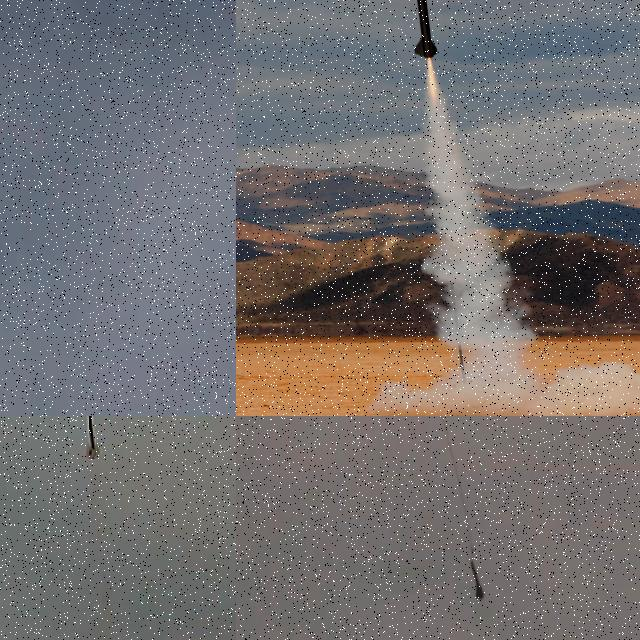Rocket: (412, 0, 438, 59), (85, 416, 100, 459), (471, 560, 484, 600)
